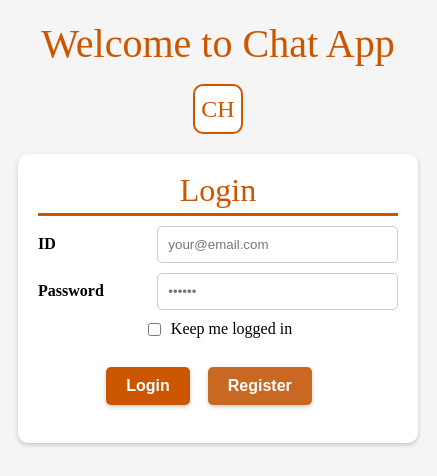
Login Component › handleusernameOnChange clears username error message
Step 1. Type "b" into the field labelled "ID" → (278, 244), box x1=157 y1=226 x2=398 y2=262
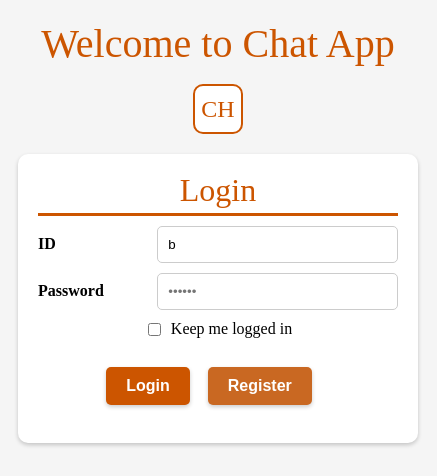
Step 2. Type "Password123" into the password field labelled "Password" → (278, 291), box x1=157 y1=272 x2=398 y2=310
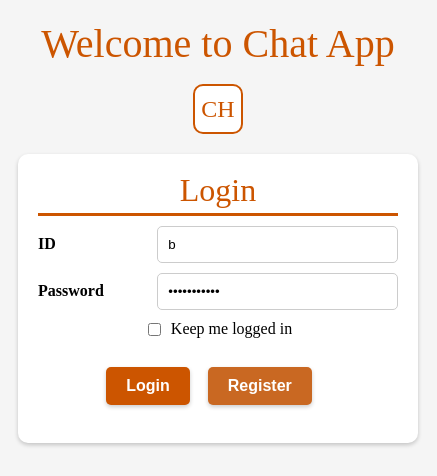
Step 3. Click the button "Login" → (148, 386), box x1=106 y1=366 x2=190 y2=404
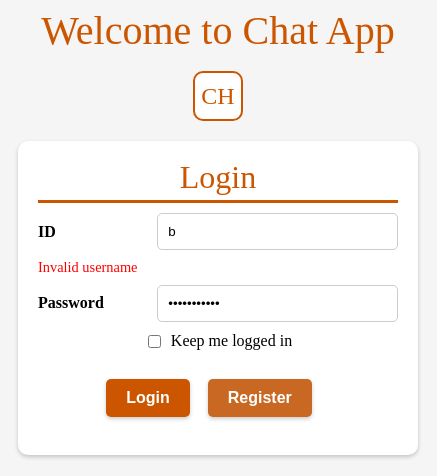
Check: the text "Invalid username" is shown, box x1=38 y1=259 x2=138 y2=275
Note: update username input
Step 4. Replace the text in the field labelled "ID" with "user@email.com" → (278, 232), box x1=157 y1=213 x2=398 y2=250
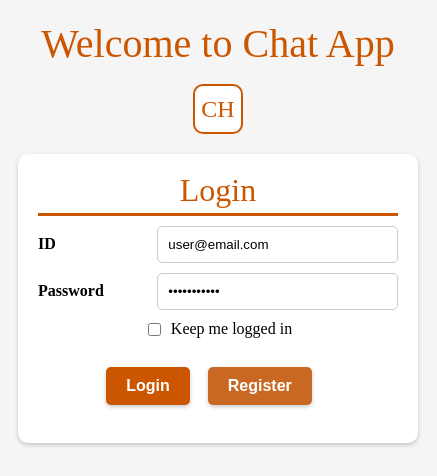
Check: the text "Invalid username" is gone
